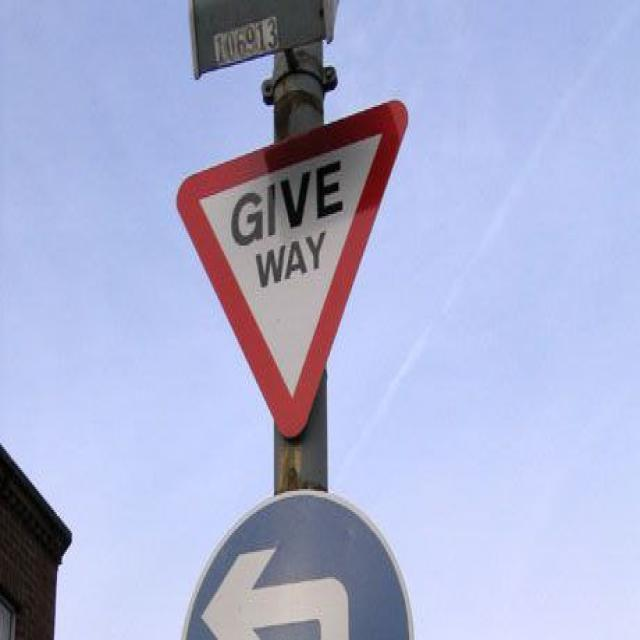give way: (153, 90, 449, 453)
